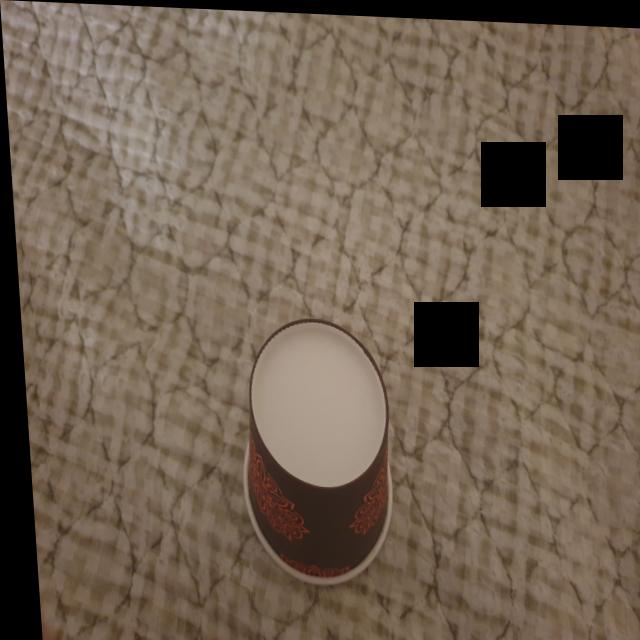cups: (220, 307, 407, 589)
